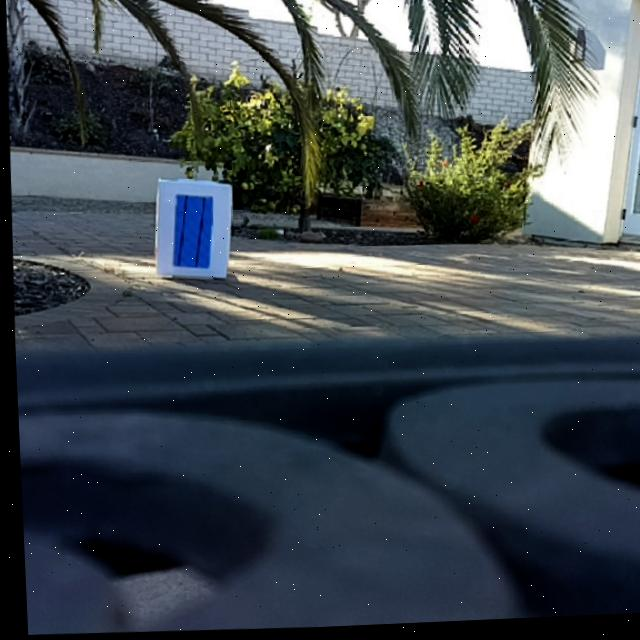led: (169, 194, 213, 271)
